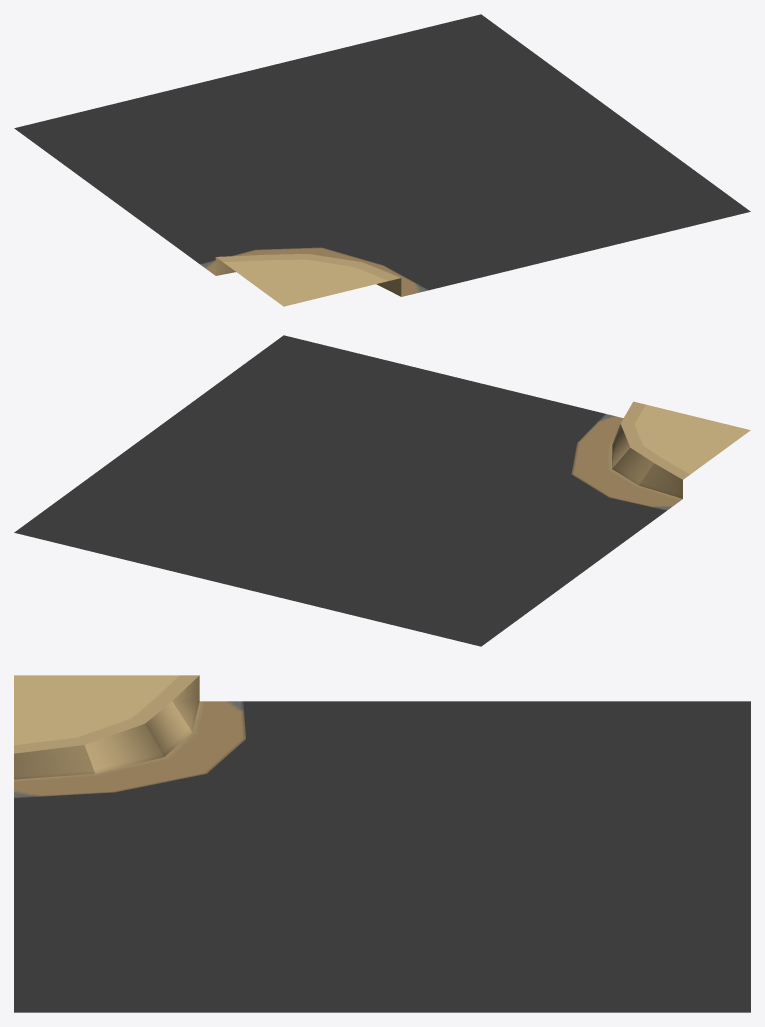
Rendered from SM_Env_Road_Asphalt_Corner_01.fbx.
The picture shows the model from 3 angles, top to bottom: view 1: azimuth 30°, elevation 25°; view 2: azimuth 150°, elevation 25°; view 3: azimuth 270°, elevation 25°; orthographic projection. The views are drawn at different scales.
Visible parts, largest first — view 1: SM_Env_Road_Asphalt_Corner_01; view 2: SM_Env_Road_Asphalt_Corner_01; view 3: SM_Env_Road_Asphalt_Corner_01.
Part boxes in pixels (x1,y1,x2,y2): SM_Env_Road_Asphalt_Corner_01: [14, 14, 750, 306]; SM_Env_Road_Asphalt_Corner_01: [14, 335, 750, 646]; SM_Env_Road_Asphalt_Corner_01: [14, 675, 750, 1012].
Bounding box in the file's own units: 5 × 0.1948 × 5.
